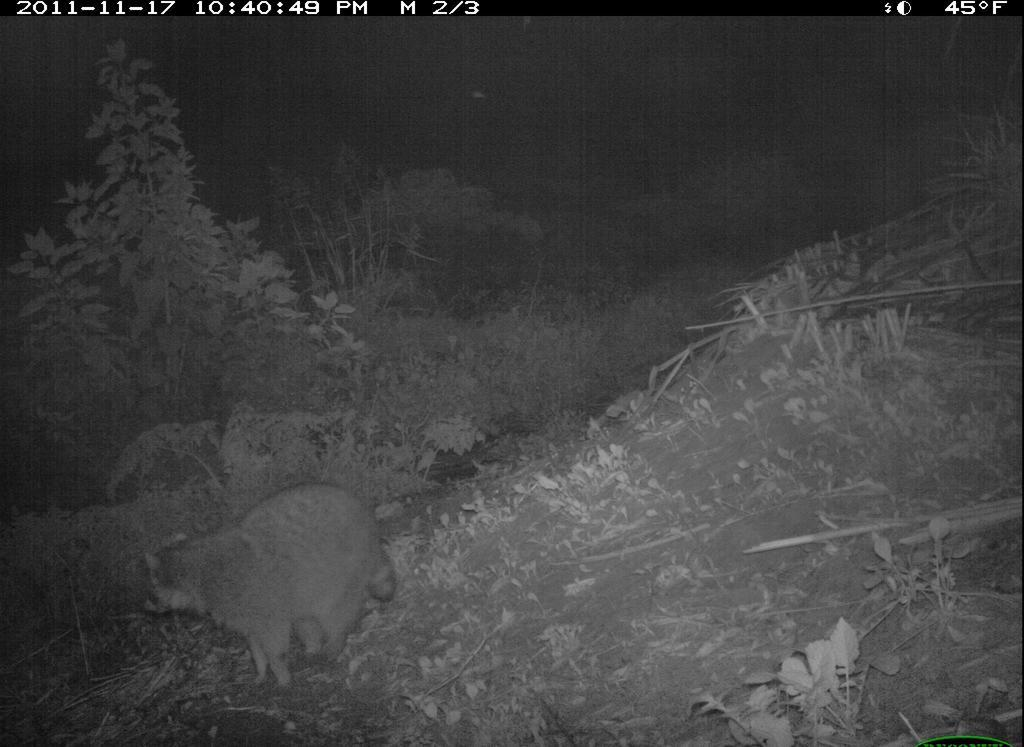raccoon: (122, 466, 428, 711)
